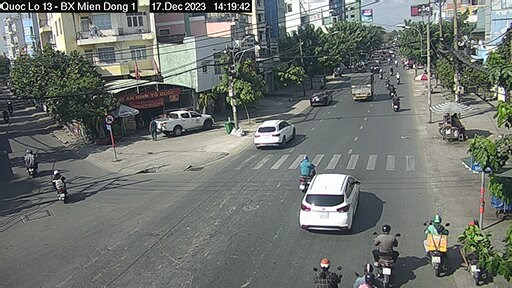car: (306, 172, 362, 233), (155, 109, 216, 138), (253, 116, 297, 149), (309, 88, 335, 109)
motorbike: (368, 219, 404, 284), (421, 216, 448, 274), (49, 166, 73, 204), (23, 146, 43, 176), (299, 156, 313, 191), (388, 92, 404, 112)
truck: (349, 71, 376, 100)
